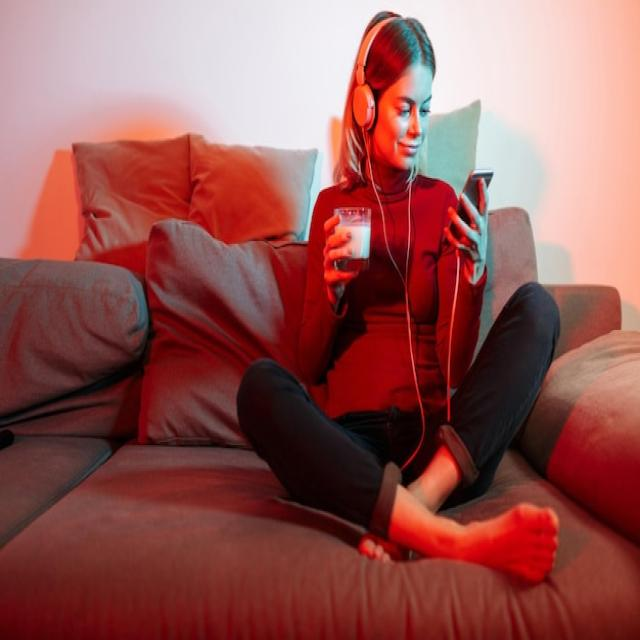Headphone: (351, 15, 406, 134)
